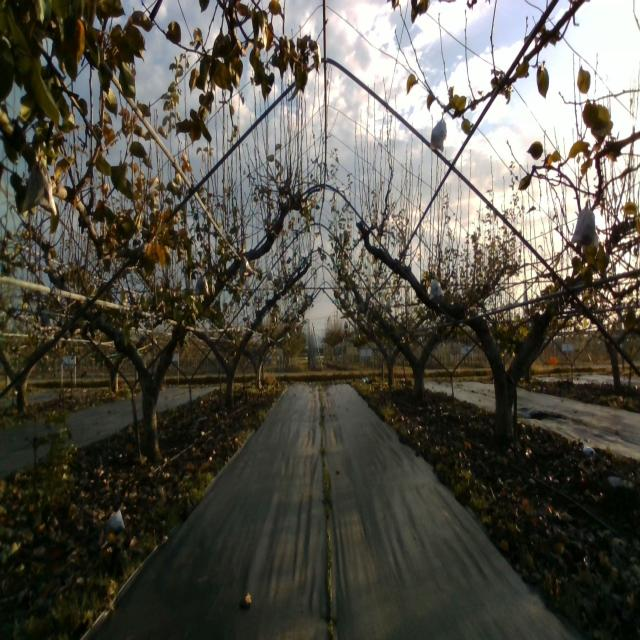pearbags: (22, 154, 58, 217), (570, 200, 600, 247), (429, 112, 446, 151), (239, 256, 253, 279), (194, 276, 210, 296), (429, 279, 443, 300)
